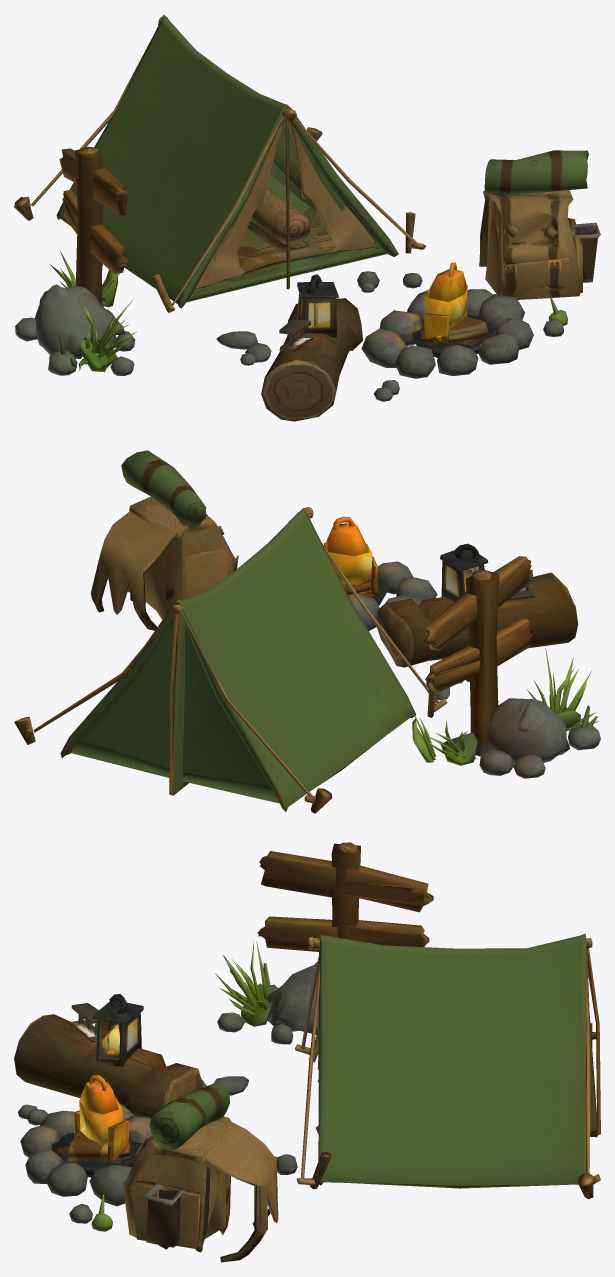
The model's file is pohod.glb.
3 views of the same model, one above another, from view 1: azimuth 30°, elevation 25°; view 2: azimuth 150°, elevation 25°; view 3: azimuth 270°, elevation 25° (orthographic). The views are drawn at different scales.
Visible parts, largest first — view 1: mesh_node; view 2: mesh_node; view 3: mesh_node.
Boxes of the visible parts, x1,y1,x2,y2 form: mesh_node: (14, 14, 600, 421); mesh_node: (14, 450, 600, 813); mesh_node: (14, 842, 600, 1262).
Bounding box in the file's own units: 0.998 × 0.3604 × 0.9141.
1 material, 1 textured.
